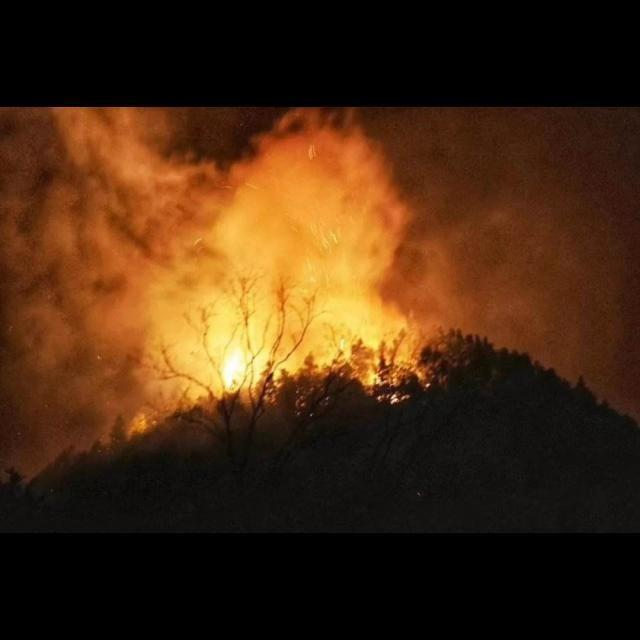Fire: (310, 337, 430, 405), (222, 348, 246, 394)
Smoke: (1, 107, 640, 341), (0, 342, 224, 474), (248, 346, 304, 410)
